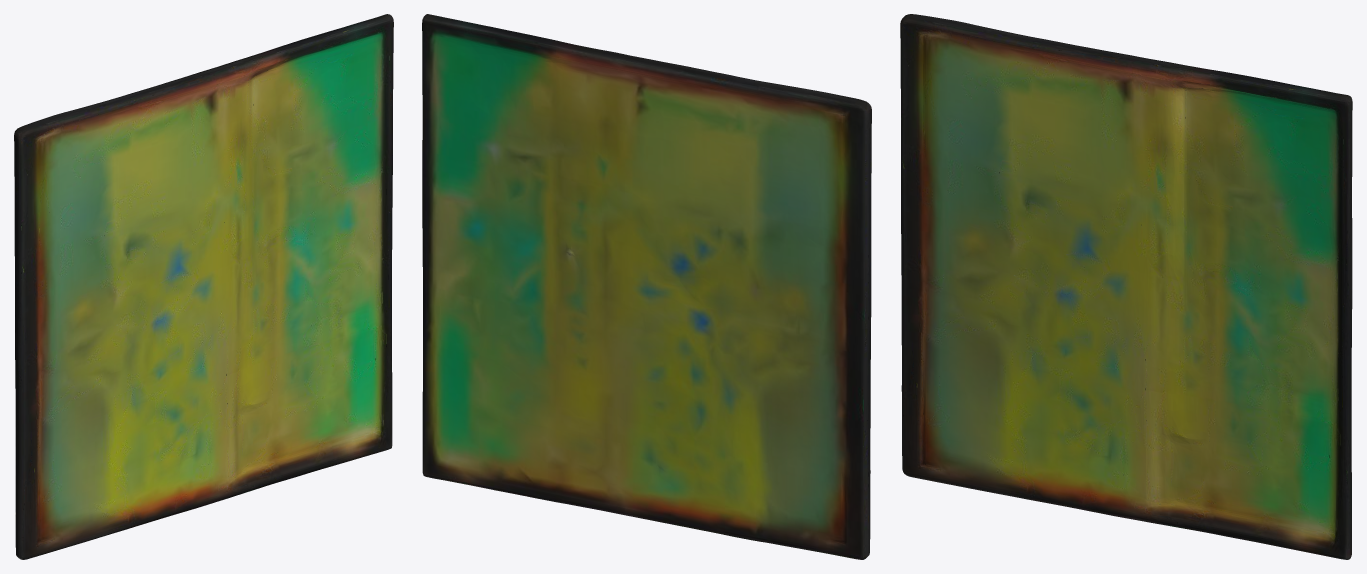
File: framed_yellow_and_green_painting_on_wall_000.glb
The picture shows the model from 3 angles, left to right: view 1: azimuth 30°, elevation 25°; view 2: azimuth 150°, elevation 25°; view 3: azimuth 330°, elevation 25°; orthographic projection. The views are drawn at different scales.
Parts seen in each view (by area): view 1: phase2_final_framed_yellow_and_green_painting_on_wall_000.ob; view 2: phase2_final_framed_yellow_and_green_painting_on_wall_000.ob; view 3: phase2_final_framed_yellow_and_green_painting_on_wall_000.ob.
Part boxes in pixels (left/top/right/bottom): phase2_final_framed_yellow_and_green_painting_on_wall_000.ob: left=14, top=14, right=393, bottom=559; phase2_final_framed_yellow_and_green_painting_on_wall_000.ob: left=422, top=14, right=871, bottom=559; phase2_final_framed_yellow_and_green_painting_on_wall_000.ob: left=900, top=14, right=1352, bottom=559.
Bounding box in the file's own units: 0.278 × 0.289 × 0.0346.
1 material, 1 textured.
